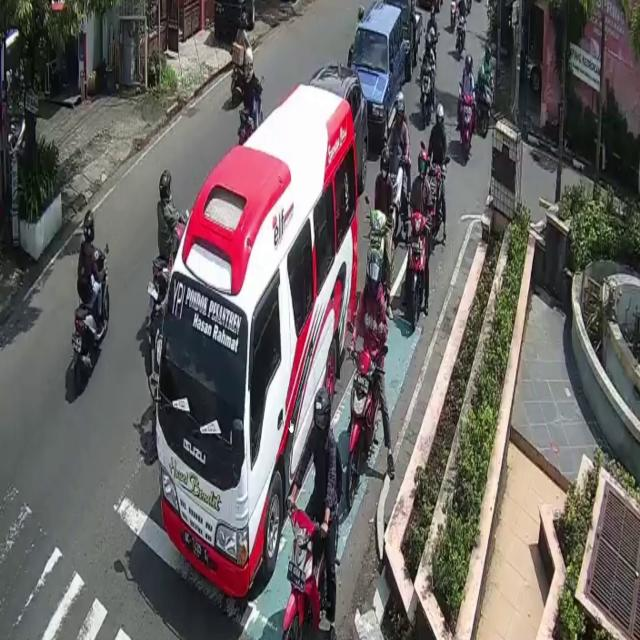bus: (285, 501, 332, 640), (69, 247, 109, 395), (349, 347, 380, 502), (363, 209, 390, 312), (409, 216, 427, 329), (238, 77, 264, 142), (231, 38, 252, 102), (429, 167, 446, 243), (476, 74, 494, 137), (462, 96, 473, 163), (422, 61, 432, 122)
car: (157, 82, 358, 594)
motorcycle: (351, 0, 407, 144), (312, 62, 370, 184), (399, 0, 424, 69)
